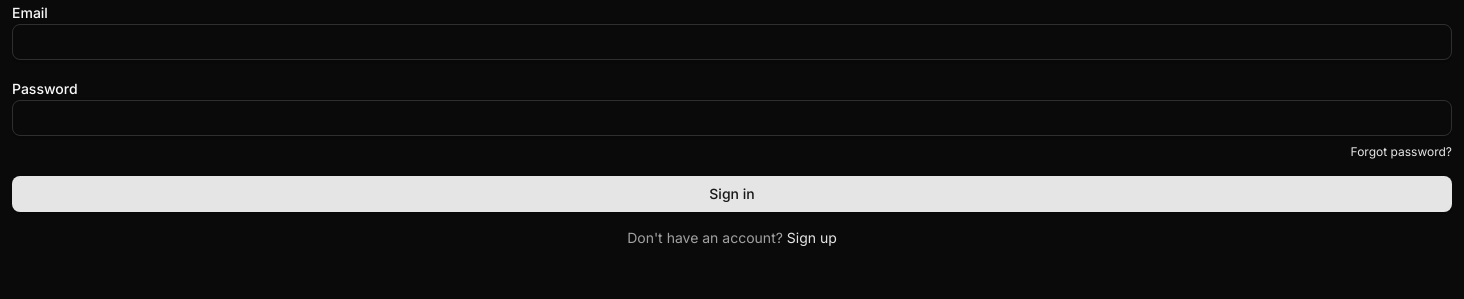
Test: LoginForm › surfaces supabase errors
Type "alice@example.com" into the field labelled "Email" at (732, 42), box [12, 24, 1452, 60]
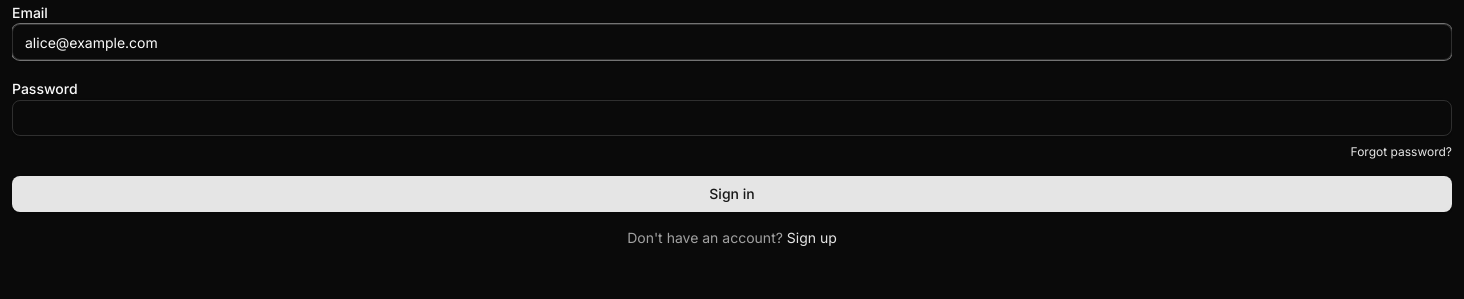
Type "wrongpass" into the password field labelled "Password" at (732, 118), box [12, 100, 1452, 136]
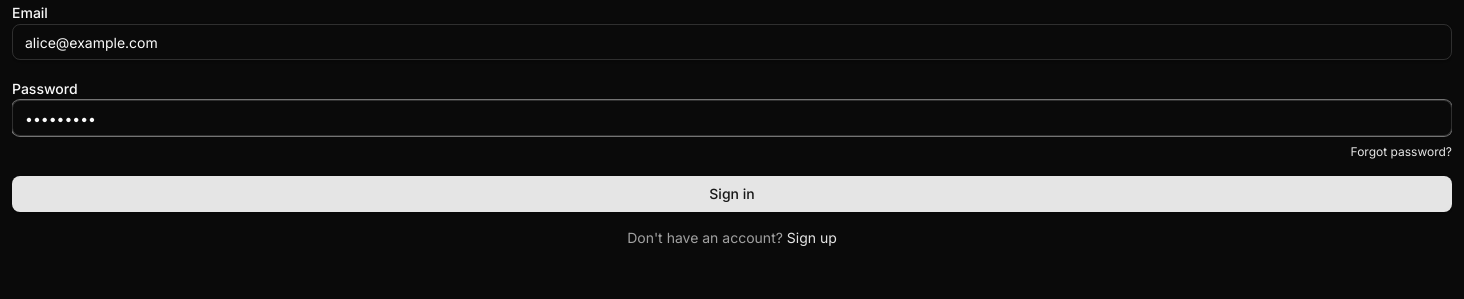
Click the button "Sign in" at (732, 194), box [12, 176, 1452, 212]
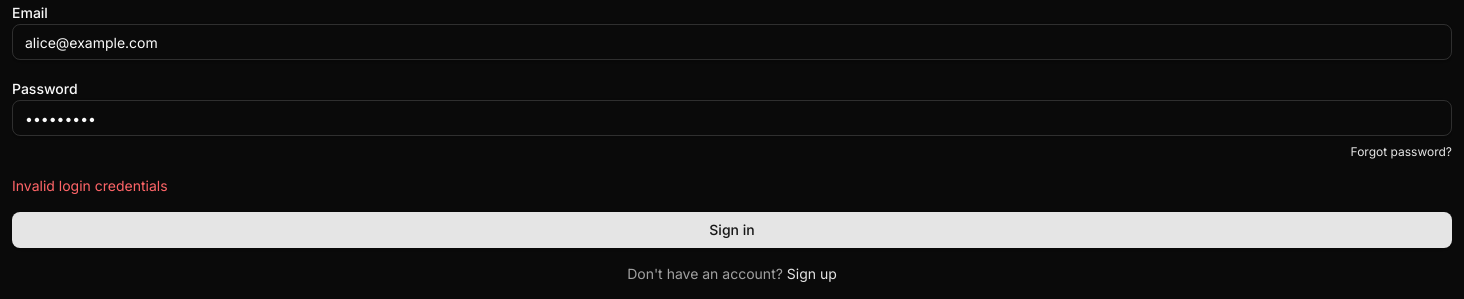
Expected: the message reads "Invalid login credentials", [12, 177, 168, 194]
